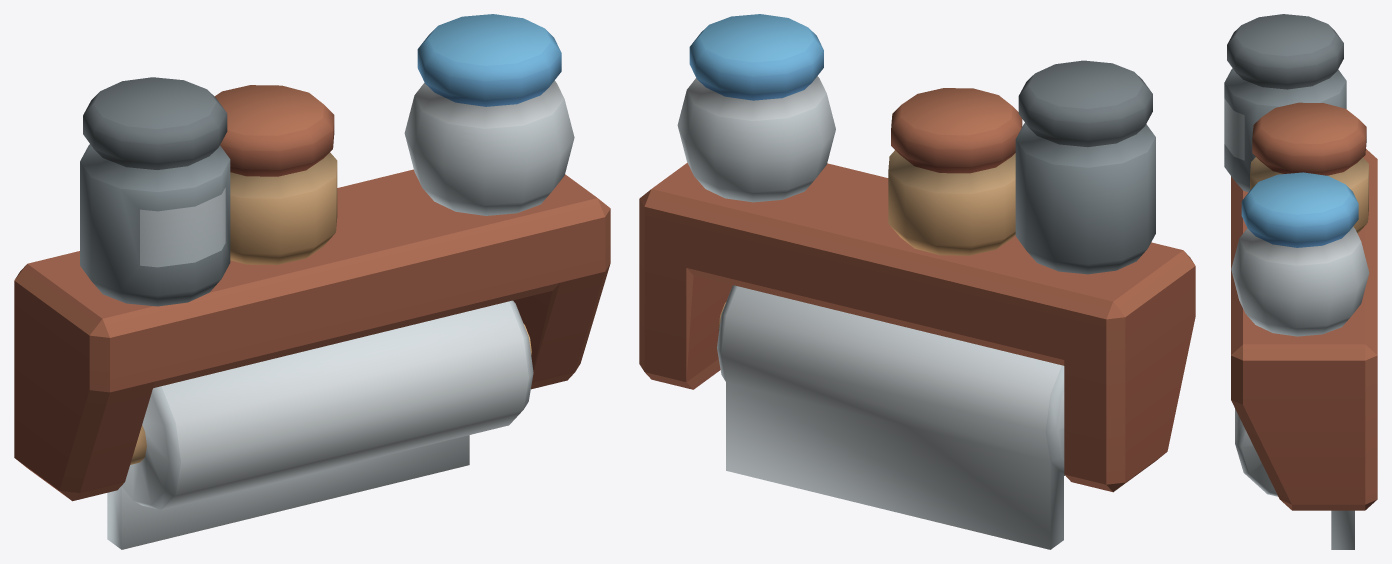
Rendered from shelf_papertowel_decorated.glb.
The picture shows the model from 3 angles, left to right: view 1: azimuth 30°, elevation 25°; view 2: azimuth 150°, elevation 25°; view 3: azimuth 270°, elevation 25°; orthographic projection. The views are drawn at different scales.
Visible parts, largest first — view 1: shelf_papertowel_decorated_Cube.240; view 2: shelf_papertowel_decorated_Cube.240; view 3: shelf_papertowel_decorated_Cube.240.
Boxes of the visible parts, x1,y1,x2,y2 form: shelf_papertowel_decorated_Cube.240: (14, 14, 610, 549); shelf_papertowel_decorated_Cube.240: (639, 14, 1195, 549); shelf_papertowel_decorated_Cube.240: (1224, 14, 1377, 549).
Bounding box in the file's own units: 2 × 1.71 × 0.6264.
Materials: 1 (1 with a texture image).
